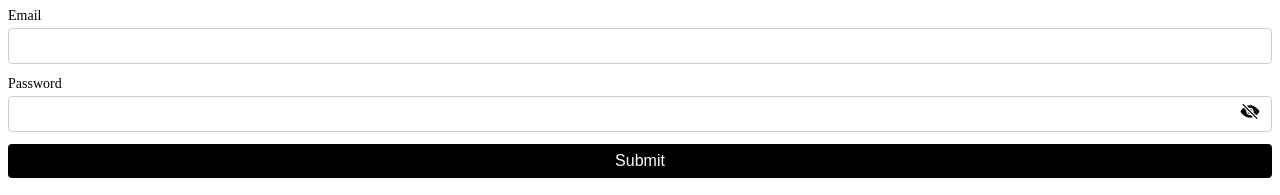
AuthForm › toggles password visibility without submitting
This screenshot has width=1280, height=195.
Type "password123" into the password field labelled "Password" at (640, 114), box [8,96,1272,132]
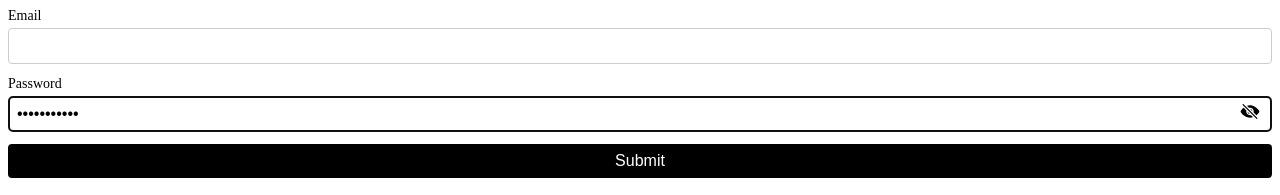
Click the 1st button at (1250, 114), box [1240,102,1260,126]
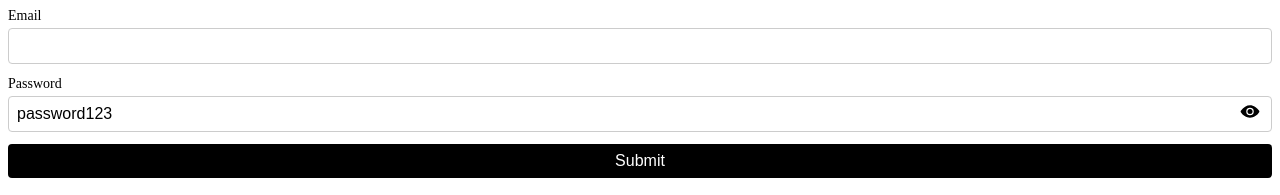
Now the field labelled "Password" shows its text, box [8,96,1272,132]
Click the 1st button at (1250, 114), box [1240,102,1260,126]
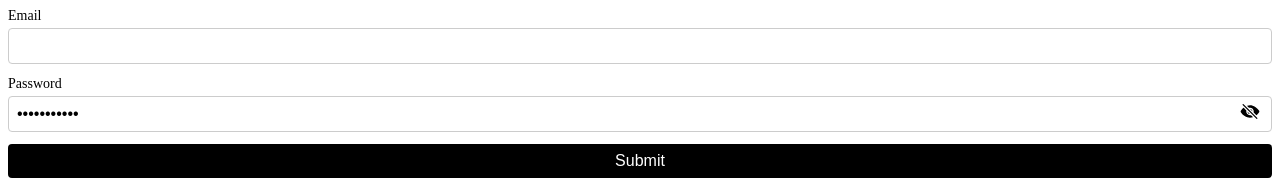
Now the password field labelled "Password" hides its text, box [8,96,1272,132]
